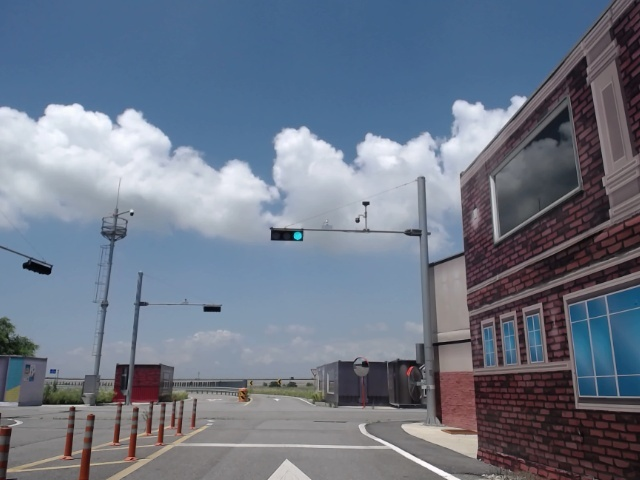green_3: (272, 230, 303, 239)
